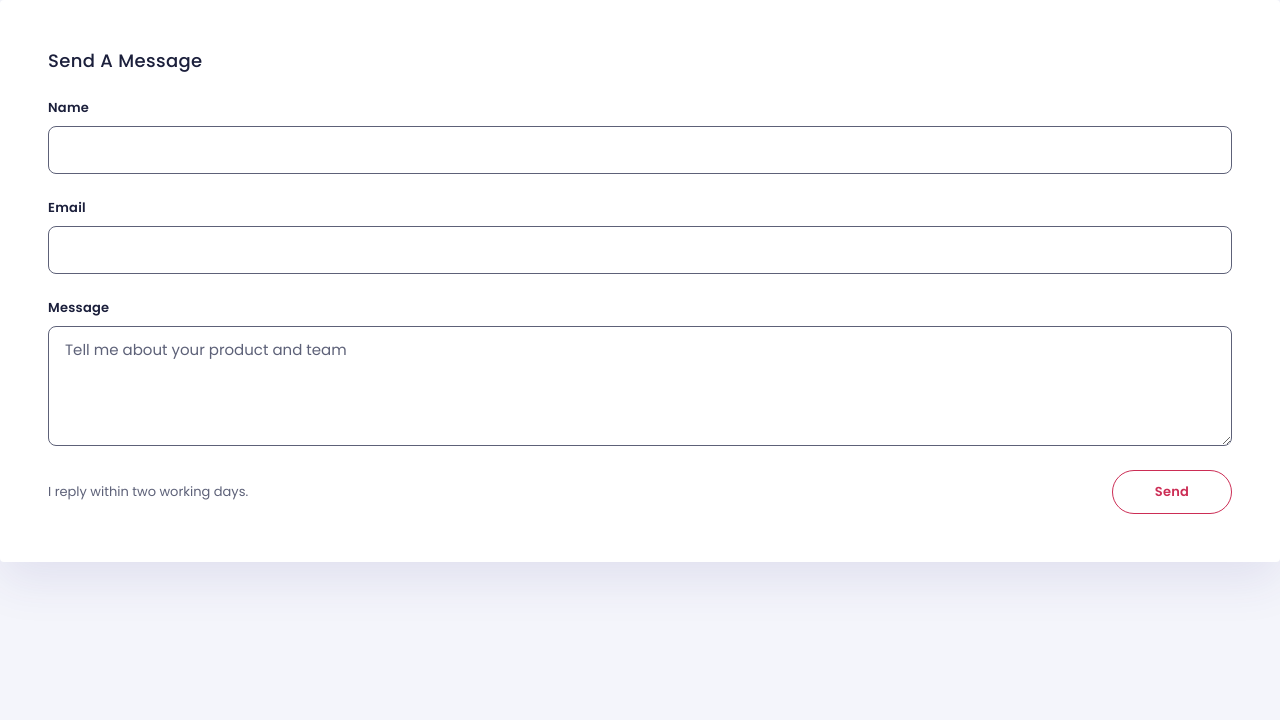
Test case: ContactCard validation › reports a failed request and keeps what was typed
Type "Asha Menon" into the field labelled "Name". click: (640,150)
box: [48,126,1232,174]
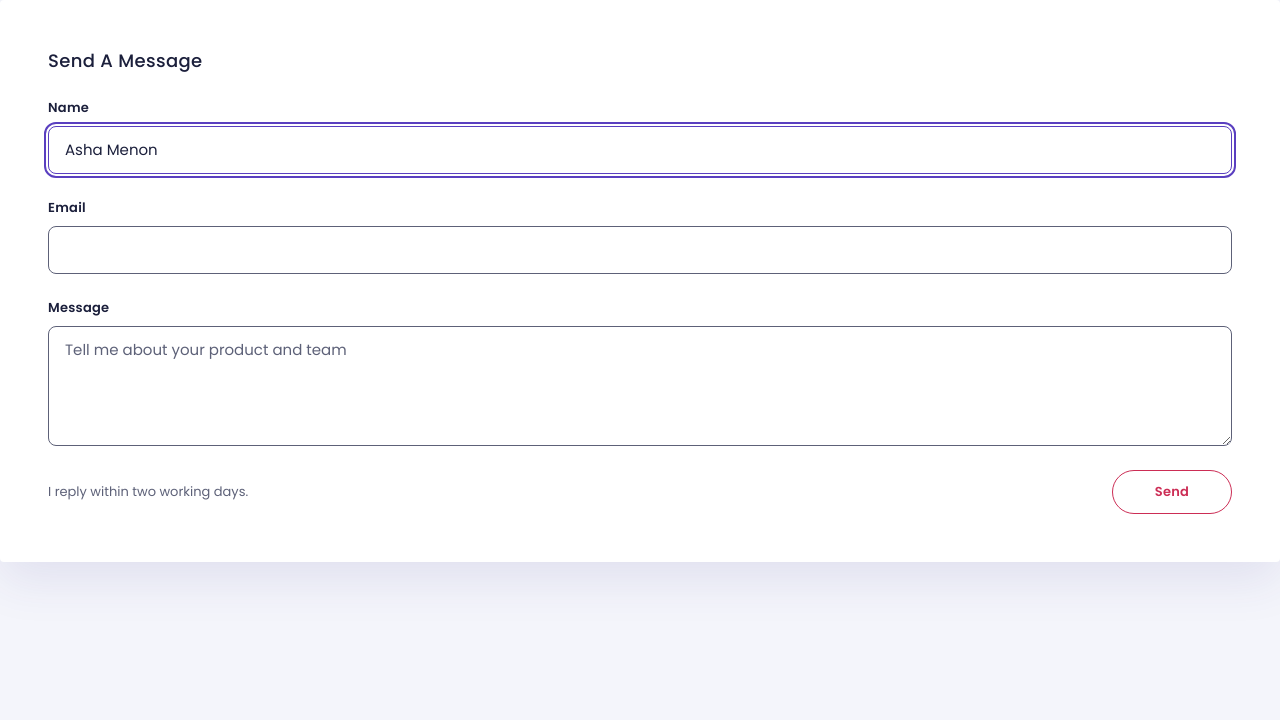
Type "asha@company.com" into the field labelled "Email". click: (640,250)
box: [48,226,1232,274]
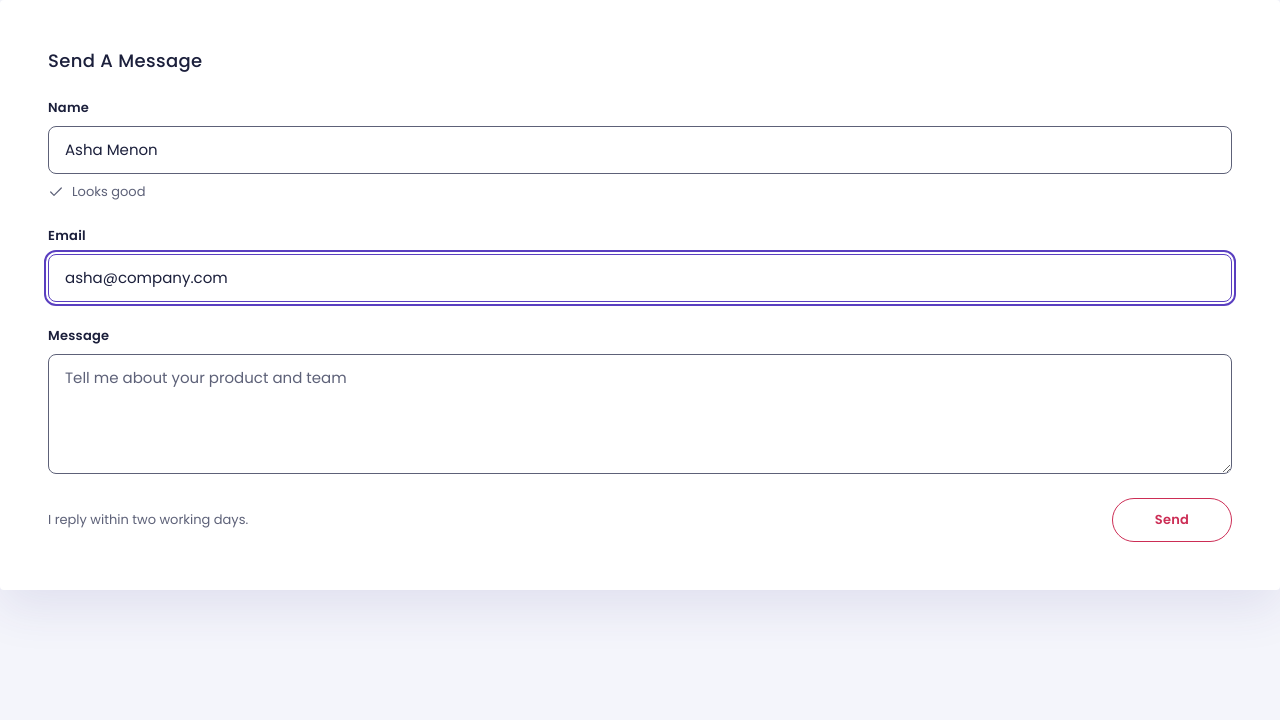
Type "We need a design system for our product." into the text box labelled "Message". click: (640,414)
box: [48,354,1232,474]
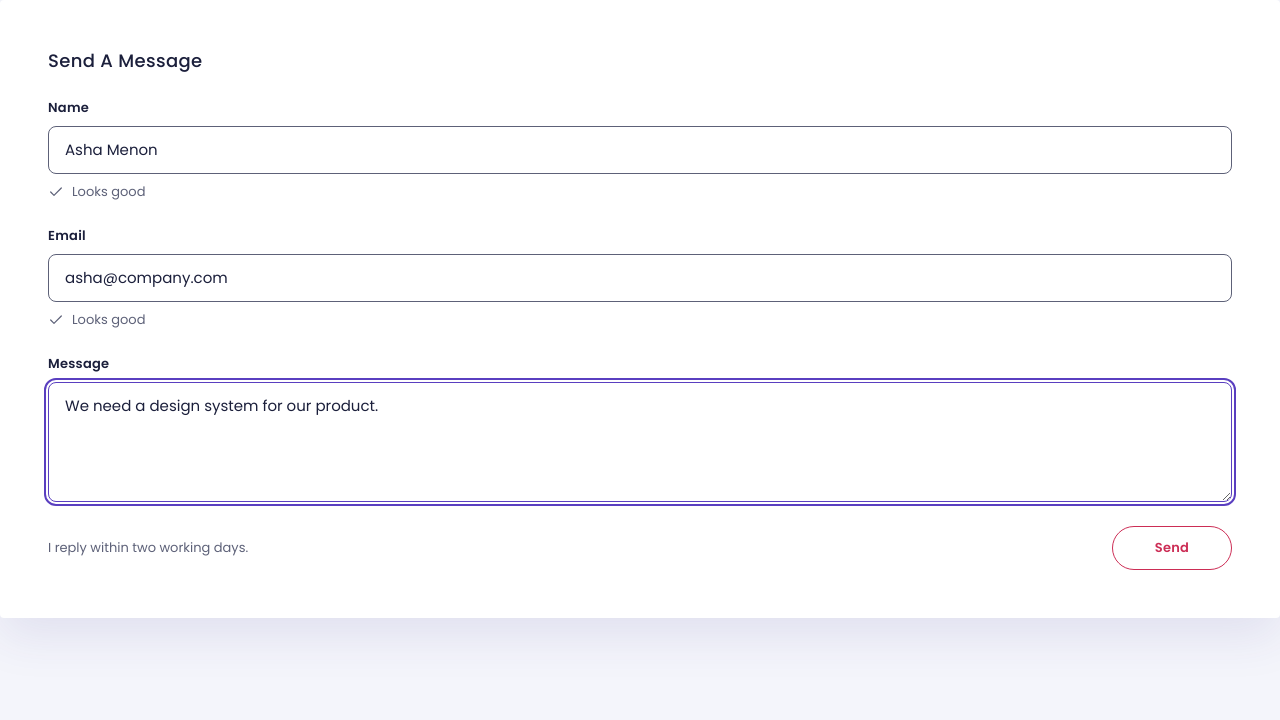
Click the button "Send". click: (1172,548)
box: [1112,526,1232,570]
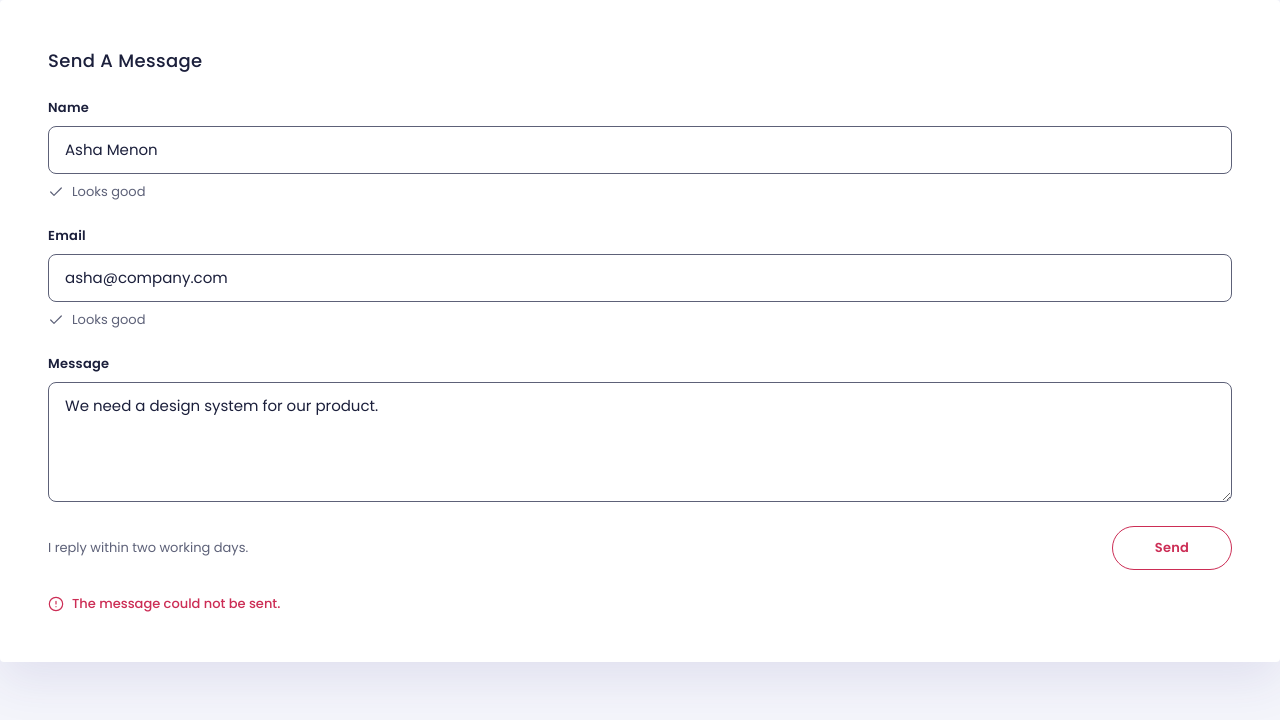
Expected: the message does not show "Thanks", [48,594,280,613]
Result: the text "The message could not be sent." is shown at [48,594,280,614]
